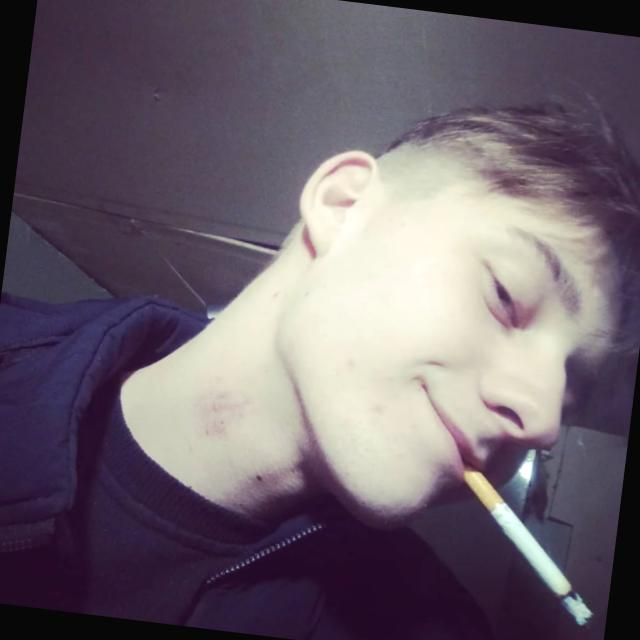cigarette: (436, 458, 614, 630)
